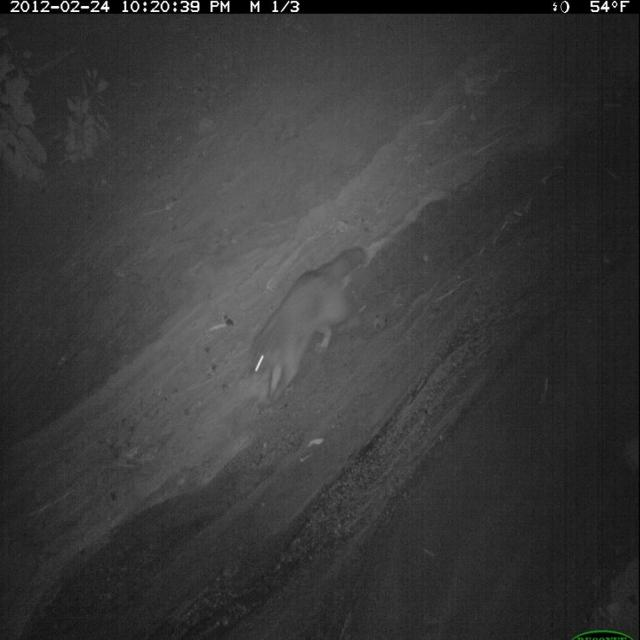raccoon: (244, 241, 370, 413)
